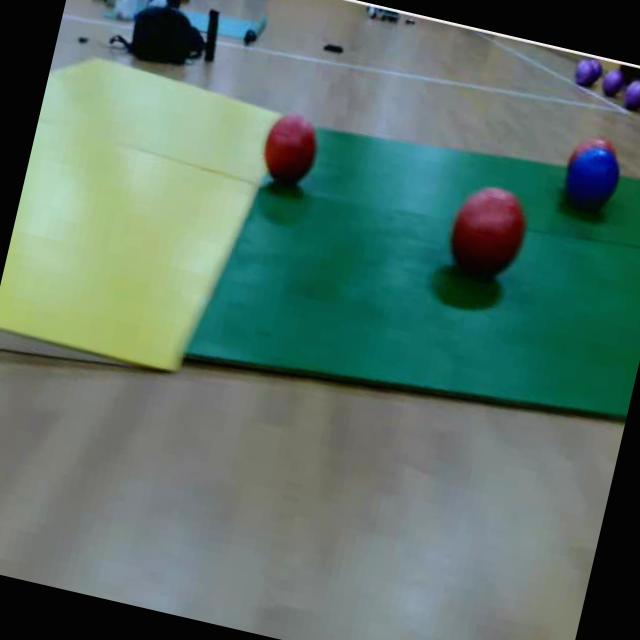blue_ball: (557, 140, 625, 221)
red_ball: (440, 179, 534, 283), (256, 111, 324, 192), (561, 130, 618, 194)
